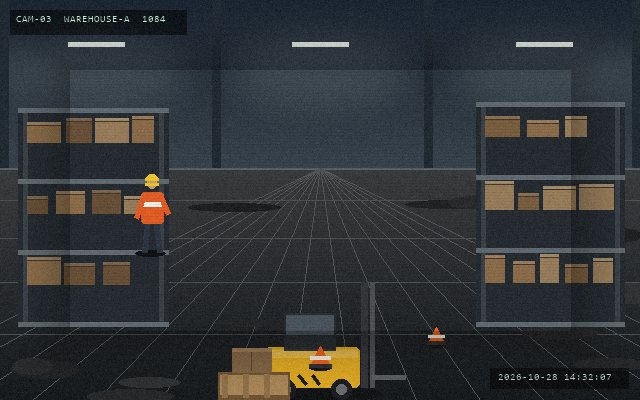cone: (308, 344, 332, 370), (426, 325, 446, 347)
forklift: (261, 280, 407, 399)
pallet: (216, 370, 291, 399)
person: (134, 173, 170, 255)
shelf: (476, 102, 624, 322), (18, 108, 168, 322)
